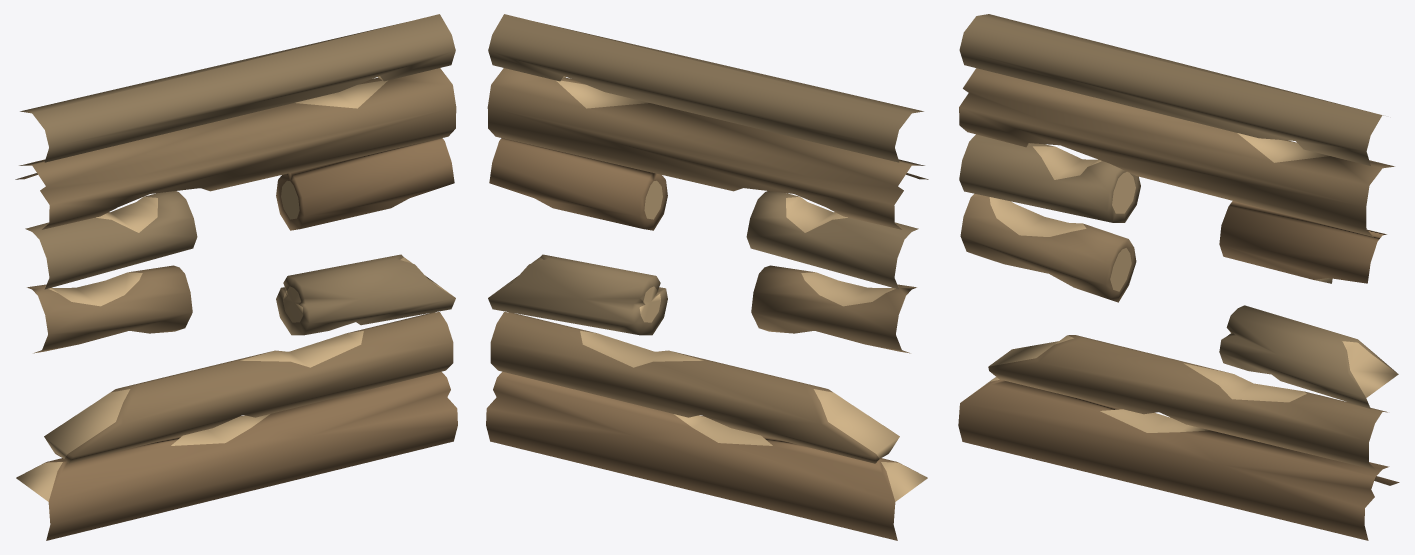
The model's file is rpgpp_av_wall_03_3x3_window_03a.gltf.
3 renders of one model, left to right at view 1: azimuth 30°, elevation 25°; view 2: azimuth 150°, elevation 25°; view 3: azimuth 330°, elevation 25°, orthographic.
Parts seen in each view (by area): view 1: rpgpp_av_wall_03_3x3_window_03a; view 2: rpgpp_av_wall_03_3x3_window_03a; view 3: rpgpp_av_wall_03_3x3_window_03a.
Part boxes in pixels (box(x1,y1,x2,y2)): rpgpp_av_wall_03_3x3_window_03a: box(15, 14, 457, 540); rpgpp_av_wall_03_3x3_window_03a: box(486, 14, 928, 540); rpgpp_av_wall_03_3x3_window_03a: box(958, 14, 1399, 540).
Bounding box in the file's own units: 0.03 × 0.03 × 0.00463.
Materials: 1 (1 with a texture image).
